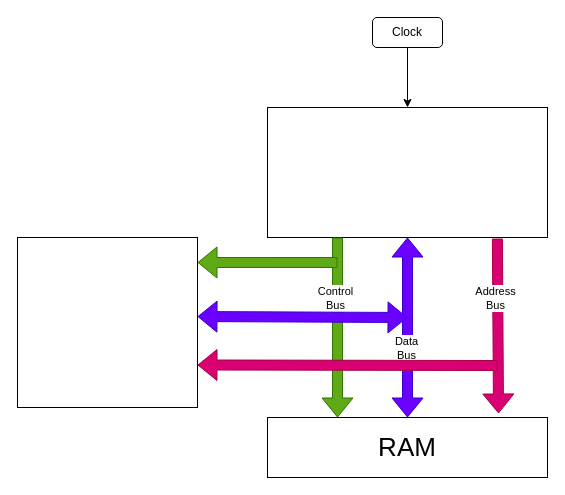
Some shapes in this 565 by 495 pixel diagram are drawn without their labels. The shapes that lost their labels are listed below. From the top down, each one's centre as x and y in pixels, then its label:
(x=407, y=172): CPU
(x=107, y=322): External Components
